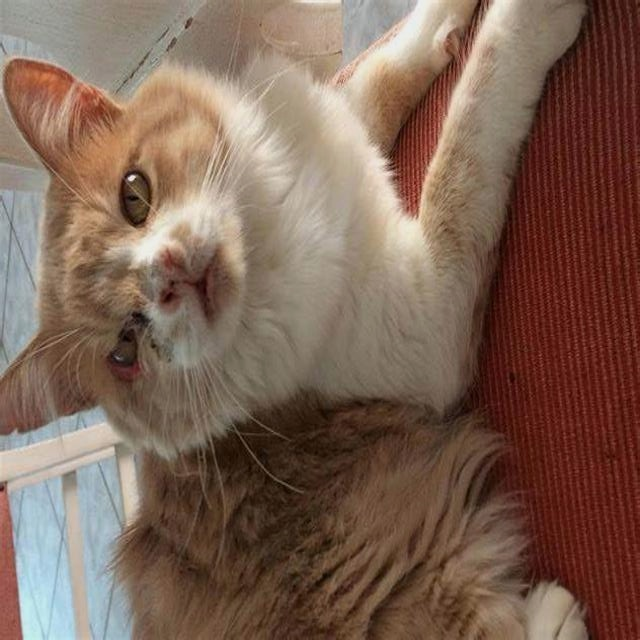eye_infection: (100, 325, 145, 376)
